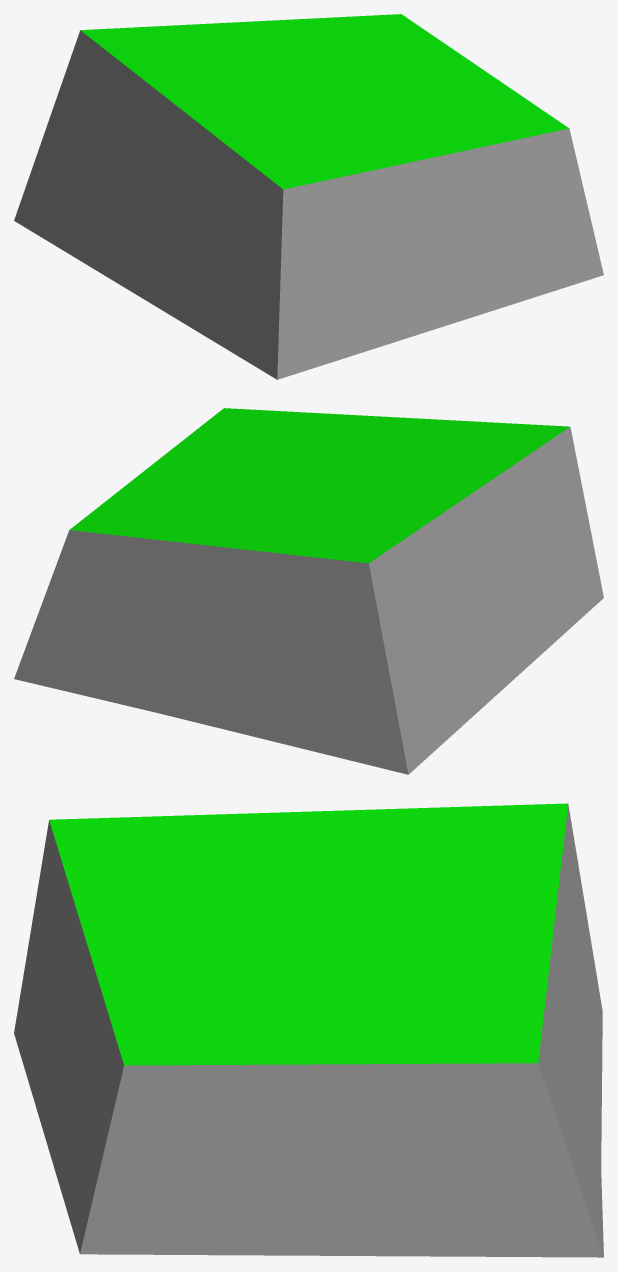
File: collider_rock_gen_mini_B.fbx
3 views of the same model, one above another, from view 1: azimuth 30°, elevation 25°; view 2: azimuth 150°, elevation 25°; view 3: azimuth 270°, elevation 25° (orthographic). The views are drawn at different scales.
Parts seen in each view (by area): view 1: collider_rock_gen_mini_B; view 2: collider_rock_gen_mini_B; view 3: collider_rock_gen_mini_B.
Boxes of the visible parts, left/top/right/bottom form: collider_rock_gen_mini_B: left=14, top=14, right=603, bottom=379; collider_rock_gen_mini_B: left=14, top=408, right=603, bottom=774; collider_rock_gen_mini_B: left=14, top=803, right=603, bottom=1257.
Bounding box in the file's own units: 9.04 × 4.13 × 9.16.
